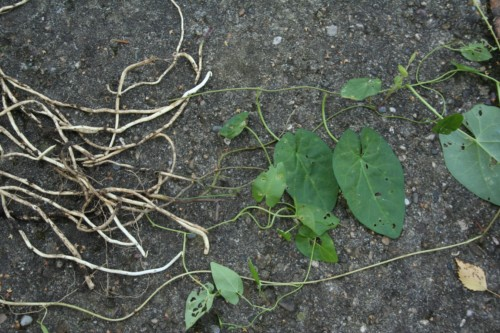haagwinde: (236, 80, 421, 264)
